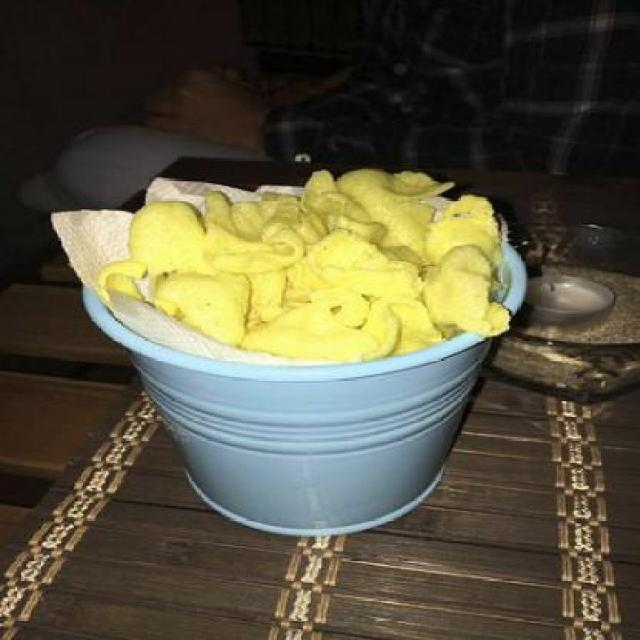Chips packaged: (128, 180, 506, 346)
